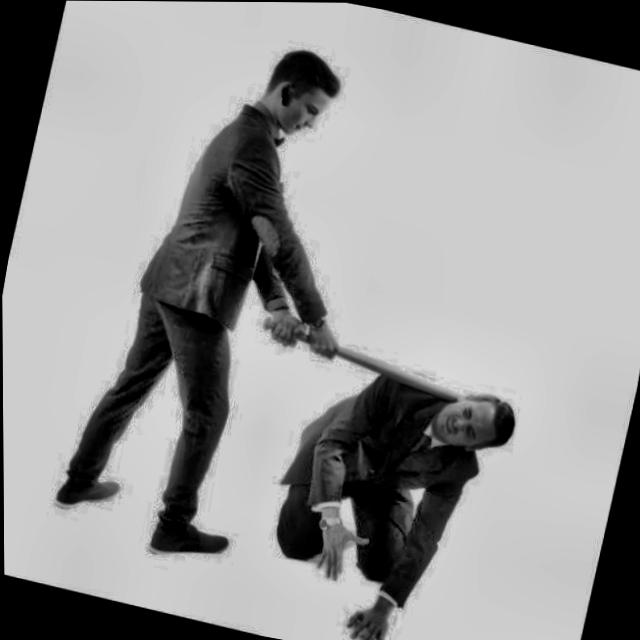robbery: (38, 35, 540, 640)
tongkat pemukul: (255, 304, 531, 409)
